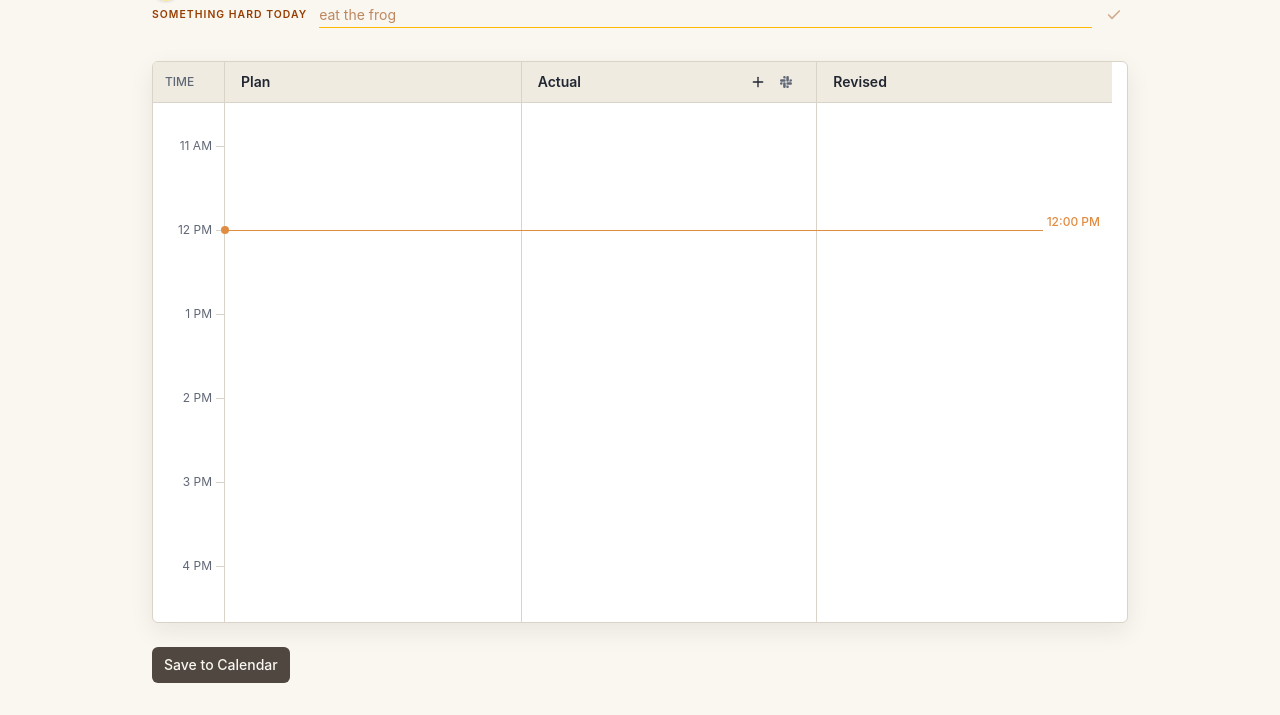
Test case: App Actual Calendar saving › keeps a failed Actual unsaved with a durable normalized error
(page scrolled)
Click the button "Save to Calendar". click: (221, 665)
box: [152,647,290,683]
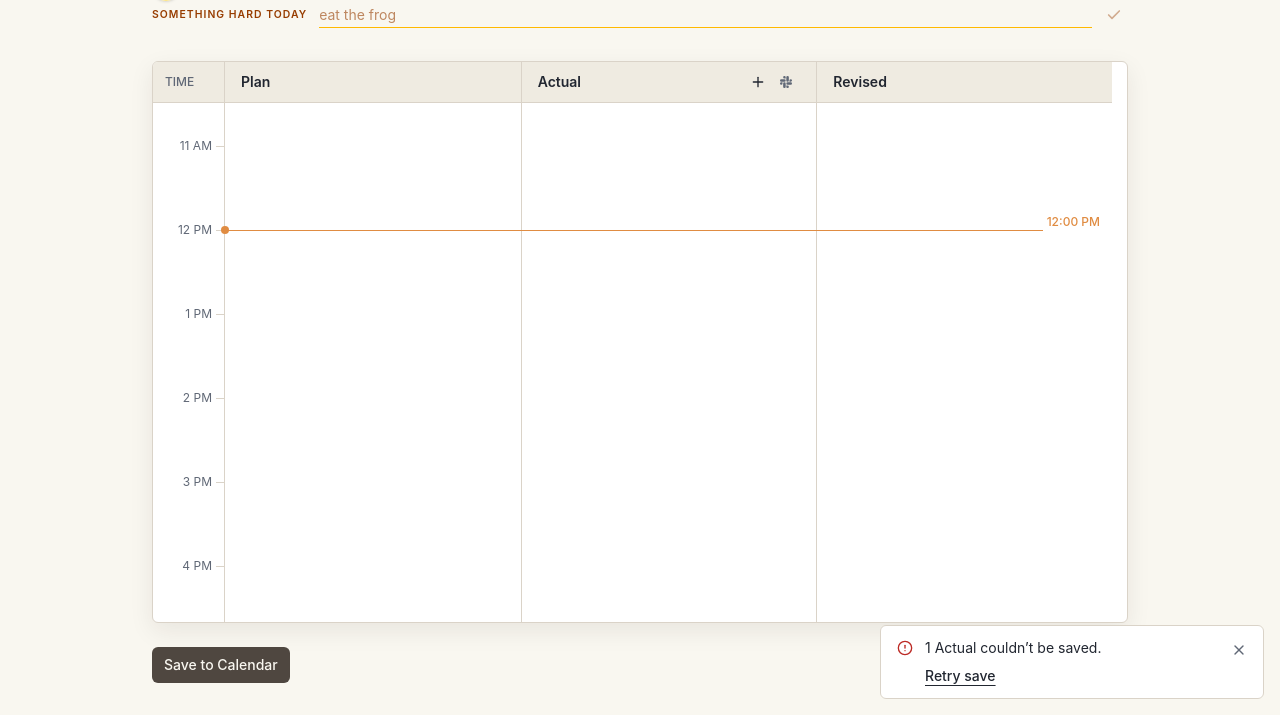
expect the message with test id "calendar-save-toast" shows "1 Actual couldn’t be saved.": met, box [925,639,1101,656]
